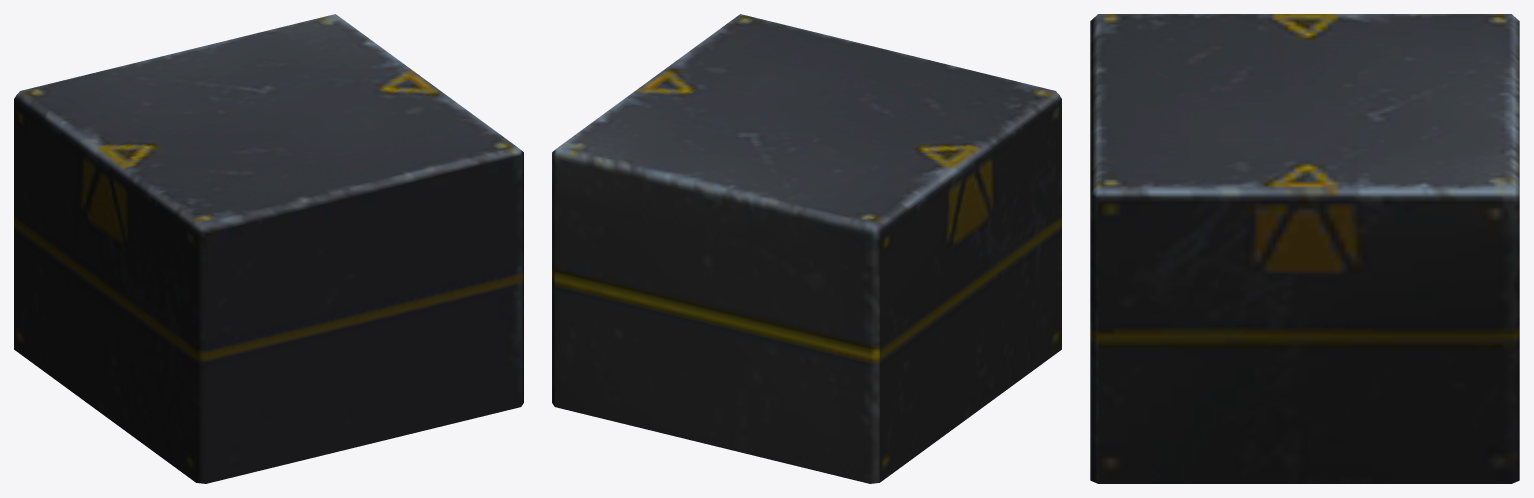
3 views of the same model, side by side, from view 1: azimuth 30°, elevation 25°; view 2: azimuth 150°, elevation 25°; view 3: azimuth 270°, elevation 25° (orthographic). The views are drawn at different scales.
Visible parts, largest first — view 1: s_common_box_01; view 2: s_common_box_01; view 3: s_common_box_01.
Part boxes in pixels (x1,y1,x2,y2): s_common_box_01: (14,14,523,483); s_common_box_01: (552,14,1061,483); s_common_box_01: (1090,14,1519,483).
Bounding box in the file's own units: 90 × 67.5 × 90.
1 material, 1 textured.
